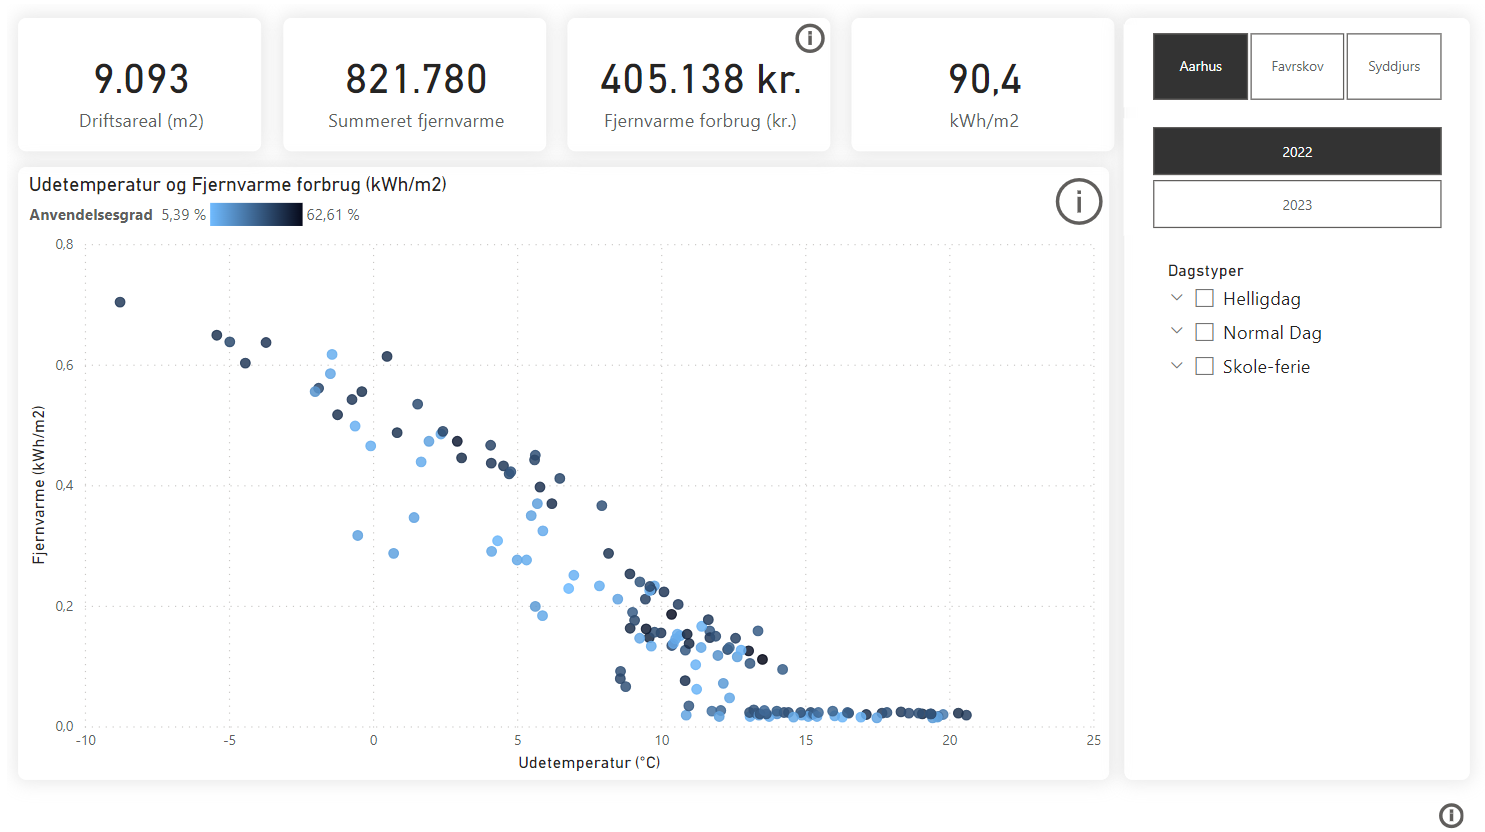

This screenshot's page, from the dashboard's own definition file:
{"tool":"powerbi","page":{"name":"Energiudnyttelse - Anvendelse","canvas":[1280,720],"ordinal":3},"visuals":[{"type":"scatterChart","title":"Udetemperatur og Fjernvarme forbrug (kWh/m2)","fields":{"X":["4_FEATURIZ_DMI.VALUE"],"Category":["4_FEATURIZ_DATOER.DATE"],"Y":["1 DAX.energy_per_sqm"]},"box":[10,141.2,943.8,530],"z":0},{"type":"card","fields":{"Values":["1 DAX.energy_per_sqm"]},"box":[731.2,12.2,226.7,115.6],"z":1000},{"type":"card","fields":{"Values":["1 DAX.Fjernvarme forbrug (kr.)"]},"box":[485.3,12.2,226.7,115.6],"z":2000},{"type":"card","fields":{"Values":["Sum(1_RAW_KOMMUNER_SKOLER.DRIFTSAREAL)"]},"box":[10,12.2,210,115.6],"z":3000},{"type":"card","fields":{"Values":["4_FEATURIZ_LOKALER.Summeret fjernvarme"]},"box":[239.3,12.2,226.7,115.6],"z":4000},{"type":"shape","box":[967,12,299,659],"z":5000},{"type":"actionButton","box":[901.2,141.2,52.5,58.8],"z":6000},{"type":"slicer","fields":{"Values":["4_FEATURIZ_DATOER.TYPE (groups)","4_FEATURIZ_DATOER.NAVN"]},"box":[991.2,216.2,253.8,427.5],"z":7000},{"type":"slicer","fields":{"Values":["1_RAW_KOMMUNER_SKOLER.KOMMUNE"]},"box":[966.4,18.2,299.1,71.8],"z":8000},{"type":"slicer","fields":{"Values":["4_FEATURIZ_DATOER.YEAR"]},"box":[966.4,99.1,299.1,101.8],"z":9000},{"type":"actionButton","box":[677.3,11.8,34.5,35.5],"z":10000},{"type":"actionButton","box":[1235,687,30,31],"z":11000}]}

Visuals, with their boxes in screenshot pixels (x1, y1, x2, y2), scaled from the page's 1280x720 canvas onto the 1485x832 screenshot:
"Udetemperatur og Fjernvarme forbrug (kWh/m2)" scatterChart: bbox=[12, 163, 1107, 776]
card - 1 DAX.energy_per_sqm: bbox=[848, 14, 1111, 148]
card - 1 DAX.Fjernvarme forbrug (kr.): bbox=[563, 14, 826, 148]
card - Sum(1_RAW_KOMMUNER_SKOLER.DRIFTSAREAL): bbox=[12, 14, 255, 148]
card - 4_FEATURIZ_LOKALER.Summeret fjernvarme: bbox=[278, 14, 541, 148]
shape: bbox=[1122, 14, 1469, 775]
actionButton: bbox=[1046, 163, 1106, 231]
slicer - 4_FEATURIZ_DATOER.TYPE (groups) x 4_FEATURIZ_DATOER.NAVN: bbox=[1150, 250, 1444, 744]
slicer - 1_RAW_KOMMUNER_SKOLER.KOMMUNE: bbox=[1121, 21, 1468, 104]
slicer - 4_FEATURIZ_DATOER.YEAR: bbox=[1121, 115, 1468, 232]
actionButton: bbox=[786, 14, 826, 55]
actionButton: bbox=[1433, 794, 1468, 830]
